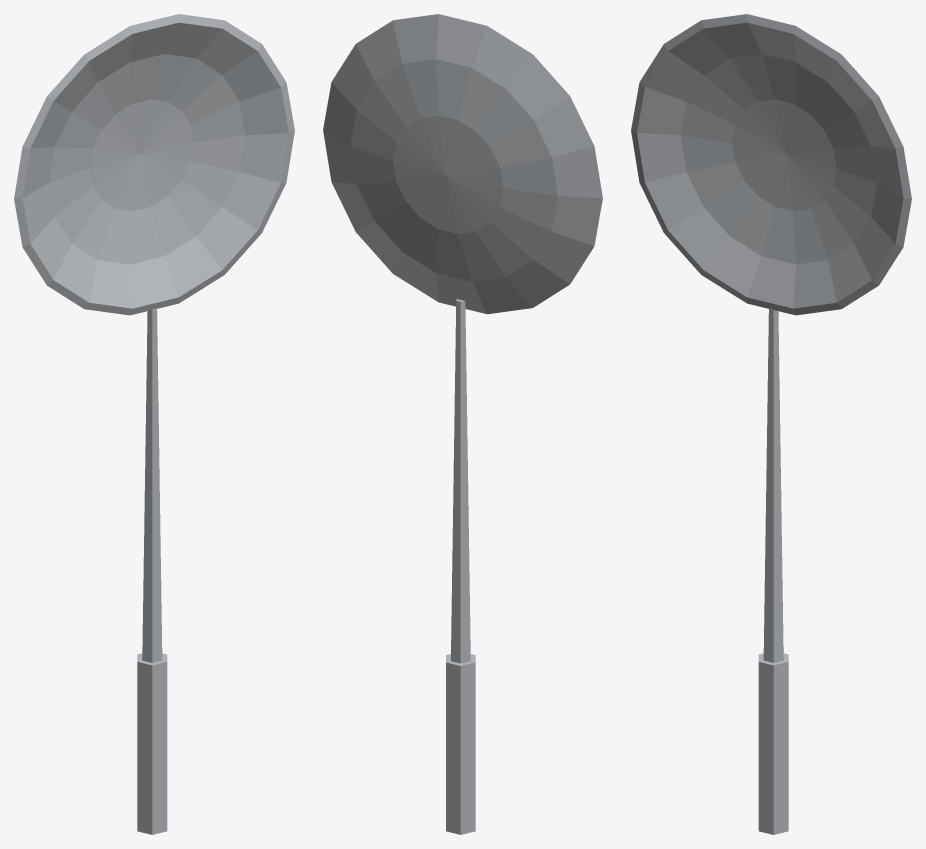
File: SM_kitchenset_02.fbx
3 views of the same model, side by side, from view 1: azimuth 30°, elevation 25°; view 2: azimuth 150°, elevation 25°; view 3: azimuth 330°, elevation 25° (orthographic).
Parts seen in each view (by area): view 1: Cylinder047; view 2: Cylinder047; view 3: Cylinder047.
Part boxes in pixels (x1,y1,x2,y2): Cylinder047: [14, 14, 294, 834]; Cylinder047: [323, 14, 602, 834]; Cylinder047: [631, 14, 911, 834].
Size of the model in its own units: 10.7 by 1.45 by 29.45.
